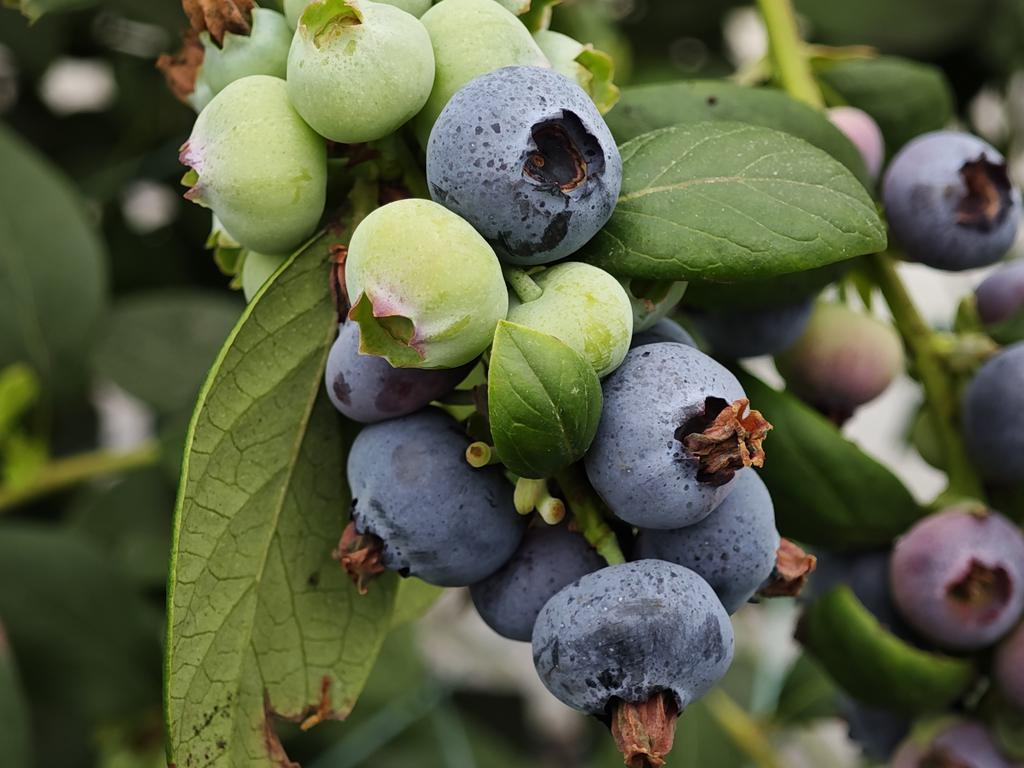RipeBlueBerry: (424, 62, 625, 269), (529, 557, 742, 731), (343, 408, 528, 590), (589, 339, 762, 532), (882, 129, 1024, 275)
Semi-RipeBlueBerry: (889, 500, 1024, 647)
UnripeBlueBerry: (342, 193, 512, 374), (178, 69, 332, 252)
